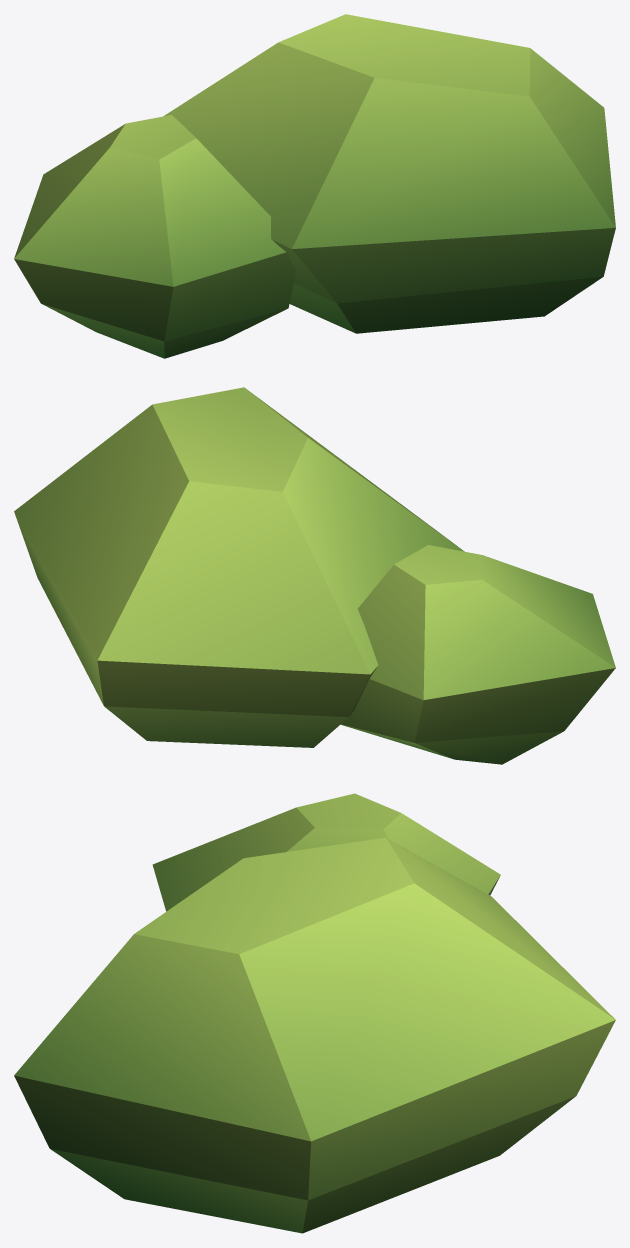
Rendered from Bush_01.fbx.
The picture shows the model from 3 angles, top to bottom: view 1: azimuth 30°, elevation 25°; view 2: azimuth 150°, elevation 25°; view 3: azimuth 270°, elevation 25°; orthographic projection. The views are drawn at different scales.
Visible parts, largest first — view 1: Bush_01_Mesh; view 2: Bush_01_Mesh; view 3: Bush_01_Mesh.
Part boxes in pixels (left/top/right/bottom): Bush_01_Mesh: left=14, top=14, right=615, bottom=358; Bush_01_Mesh: left=14, top=387, right=615, bottom=764; Bush_01_Mesh: left=14, top=793, right=615, bottom=1233.
Size of the model in its own units: 686 by 258 by 514.
